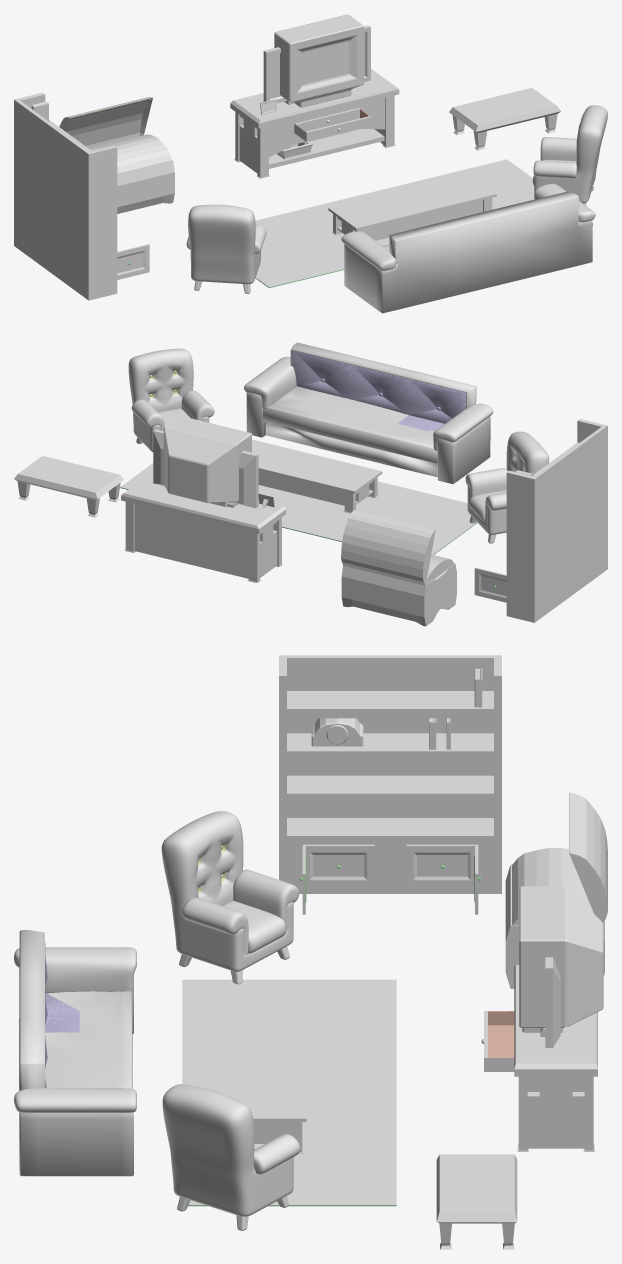
File: itens_sala.fbx
The picture shows the model from 3 angles, top to bottom: view 1: azimuth 30°, elevation 25°; view 2: azimuth 150°, elevation 25°; view 3: azimuth 270°, elevation 25°; orthographic projection. The views are drawn at different scales.
Parts seen in each view (by area): view 1: sofa, ARMÁRIO GRANDE, mesa TV aberta, chao, TV 2, mesa, poltrona.002, poltrona.001, Bau, mesinha, Bau aberto, TV 1 (+2 smaller); view 2: sofa, ARMÁRIO GRANDE, mesa TV aberta, chao, TV 2, poltrona.001, mesa, Bau aberto, Bau, poltrona.002, mesinha, TV 1 (+1 smaller); view 3: ARMÁRIO GRANDE, chao, sofa, poltrona.002, poltrona.001, mesa TV aberta, TV 2, mesa, mesinha, Bau, Bau aberto, relogio (+1 smaller).
Part boxes in pixels (<box>): sofa: <box>341,183,595,313</box>; ARMÁRIO GRANDE: <box>14,92,117,300</box>; mesa TV aberta: <box>230,68,399,178</box>; chao: <box>255,159,534,288</box>; TV 2: <box>274,14,364,107</box>; mesa: <box>328,173,496,240</box>; poltrona.002: <box>186,204,266,293</box>; poltrona.001: <box>532,105,607,205</box>; Bau: <box>89,134,174,213</box>; mesinha: <box>449,88,560,150</box>; Bau aberto: <box>59,97,152,148</box>; TV 1: <box>263,25,370,104</box>; sofa: <box>244,342,493,484</box>; ARMÁRIO GRANDE: <box>506,419,607,622</box>; mesa TV aberta: <box>121,473,286,582</box>; chao: <box>120,463,477,554</box>; TV 2: <box>163,415,251,506</box>; poltrona.001: <box>128,348,214,452</box>; mesa: <box>252,439,382,513</box>; Bau aberto: <box>341,510,435,585</box>; Bau: <box>341,554,456,626</box>; poltrona.002: <box>465,431,549,543</box>; mesinha: <box>14,456,123,517</box>; TV 1: <box>153,429,258,508</box>; ARMÁRIO GRANDE: <box>279,655,501,893</box>; chao: <box>182,979,396,1206</box>; sofa: <box>14,930,136,1176</box>; poltrona.002: <box>161,811,299,984</box>; poltrona.001: <box>162,1084,300,1230</box>; mesa TV aberta: <box>481,965,597,1151</box>; TV 2: <box>519,886,603,1032</box>; mesa: <box>223,1016,306,1153</box>; mesinha: <box>436,1154,517,1249</box>; Bau: <box>505,848,604,988</box>; Bau aberto: <box>569,792,607,922</box>; relogio: <box>311,718,363,746</box>.
Bounding box in the file's own units: 6647 × 1772 × 4367.
